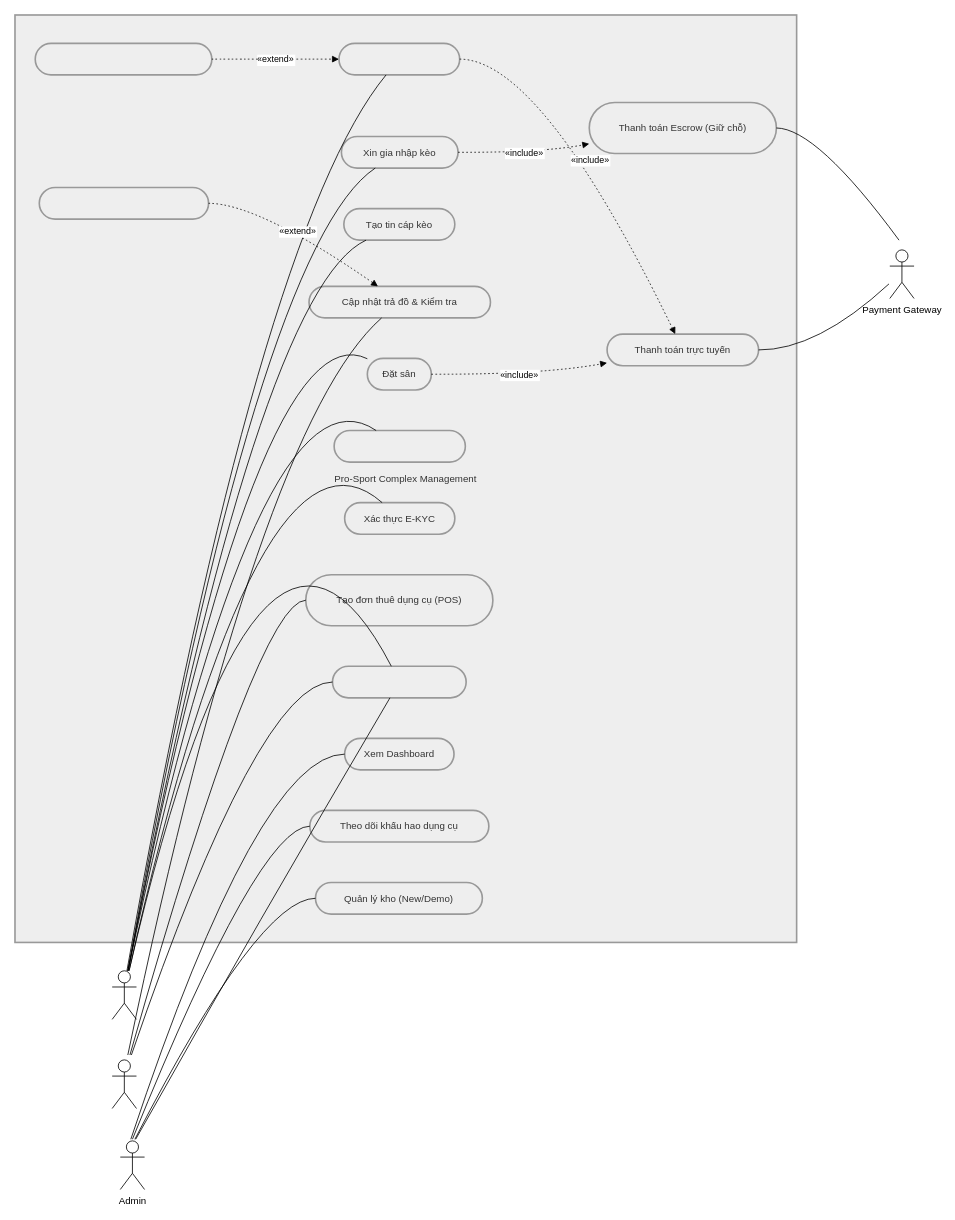
This 955x1220 diagram has some shape labels left out. Each missing label, with the box of its shape:
Customer: (111, 970, 136, 1019)
Mua dụng cụ mới: (338, 42, 460, 75)
Staff: (111, 1059, 136, 1108)
Tính phí phụ thu hư hỏng: (38, 186, 209, 220)
Xem lịch sân (Grid): (333, 429, 466, 463)
Áp dụng Voucher (Try2Buy): (34, 42, 212, 75)
Đăng nhập/Đăng ký: (331, 665, 467, 698)
